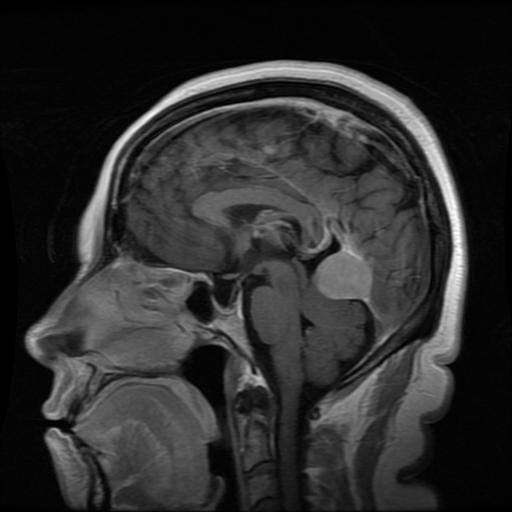Menigiomia_tumour: (314, 249, 371, 298)
